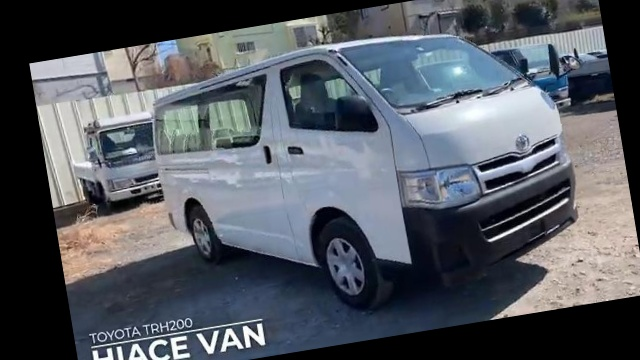van: (138, 7, 591, 332)
